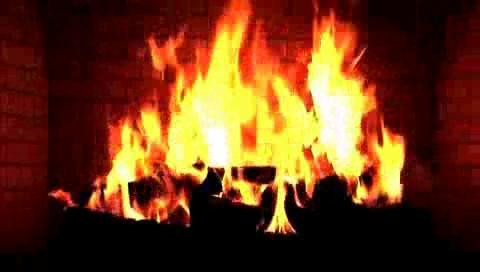fire: (114, 16, 405, 235)
